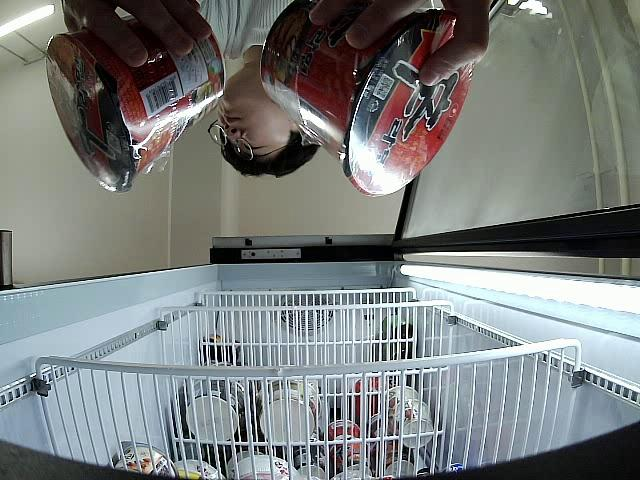00_hand: (307, 0, 491, 86), (61, 0, 214, 70)
01_shinRamen_L: (259, 0, 474, 199), (45, 4, 226, 195)
